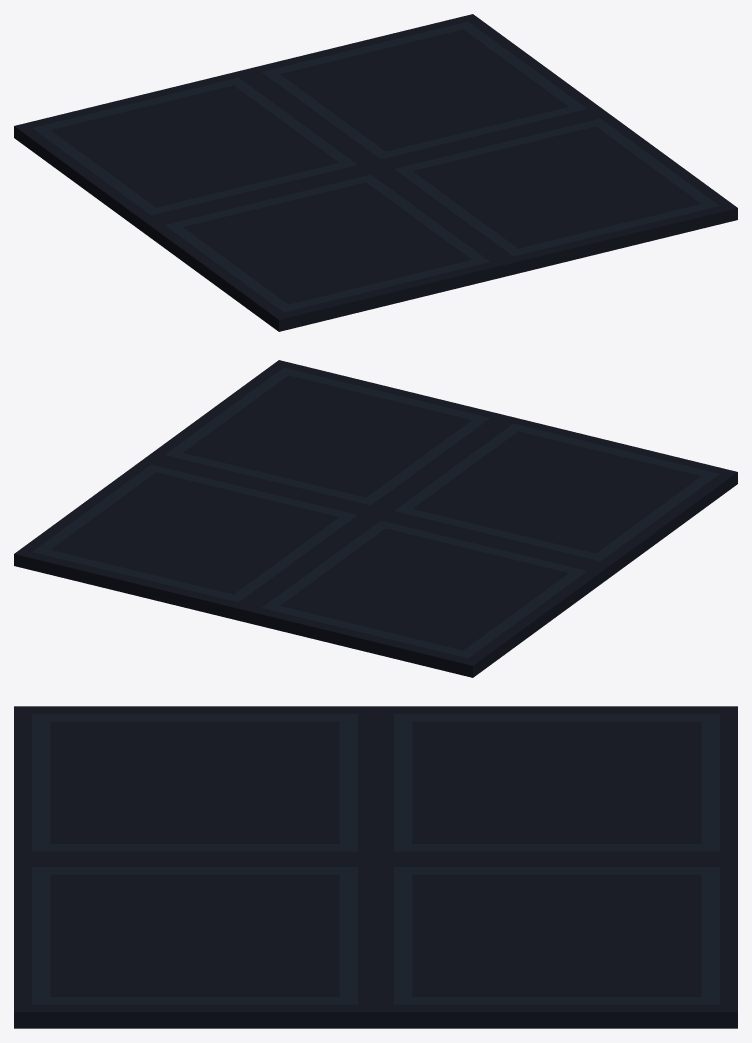
The model's file is LabFloor.obj.
The picture shows the model from 3 angles, top to bottom: view 1: azimuth 30°, elevation 25°; view 2: azimuth 150°, elevation 25°; view 3: azimuth 270°, elevation 25°; orthographic projection. The views are drawn at different scales.
Size of the model in its own units: 4 by 0.1 by 4.
Materials: 1 (1 with a texture image).
